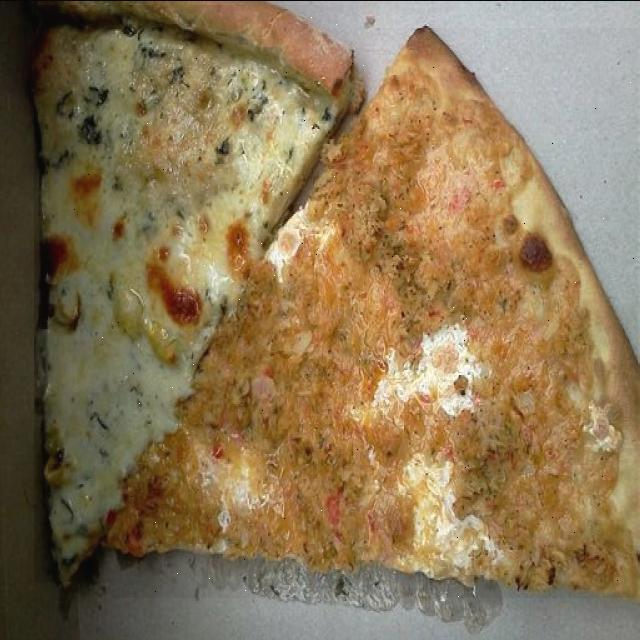pizza: (109, 28, 639, 597), (35, 5, 357, 580)
